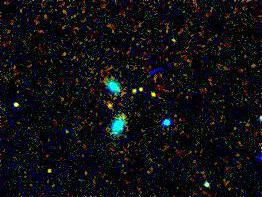star: (94, 91, 124, 121)
